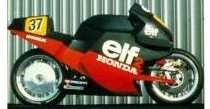motorcycle: (10, 5, 203, 106)
